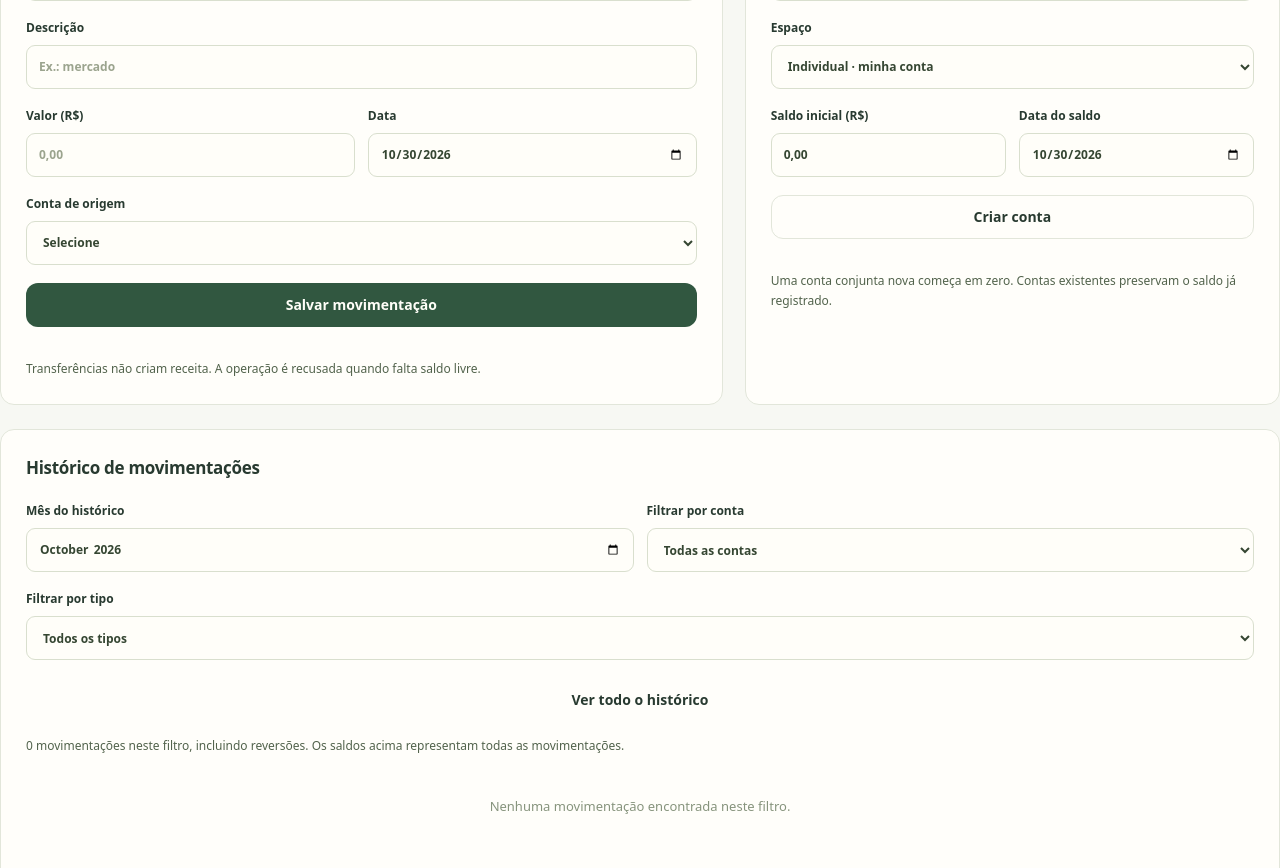
Test: consulta financeira por período › filtra mês e conta, encontra o destino das transferências e preserva reversões
(page scrolled)
Replace the text in the field labelled "Mês do histórico" with "2026-01" at [330, 550], box [26,528,634,572]
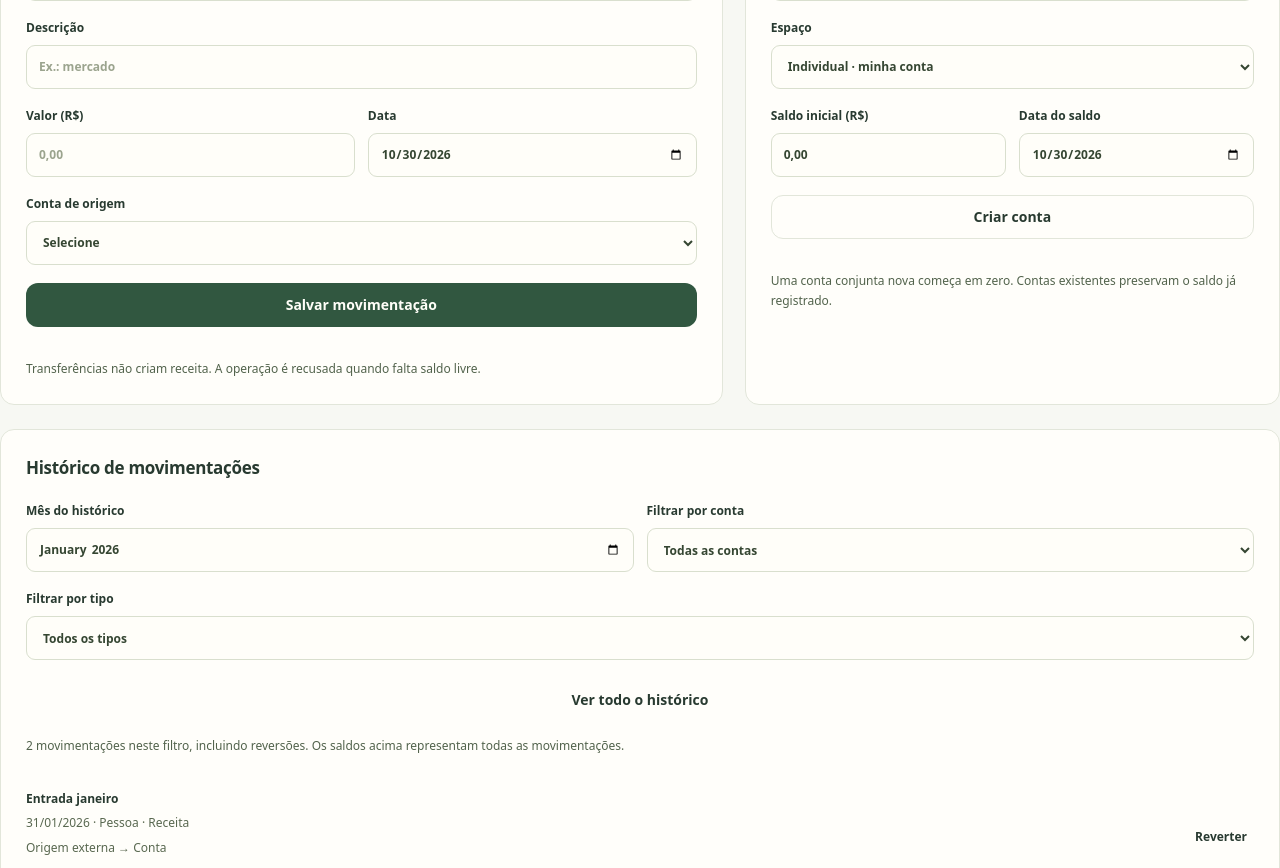
expect the text "Transferência fevereiro" is not shown: met
expect the text "Entrada janeiro" is shown: met, box [26,790,118,807]
Click the button "Ver todo o histórico" at [640, 700], box [26,678,1254,722]
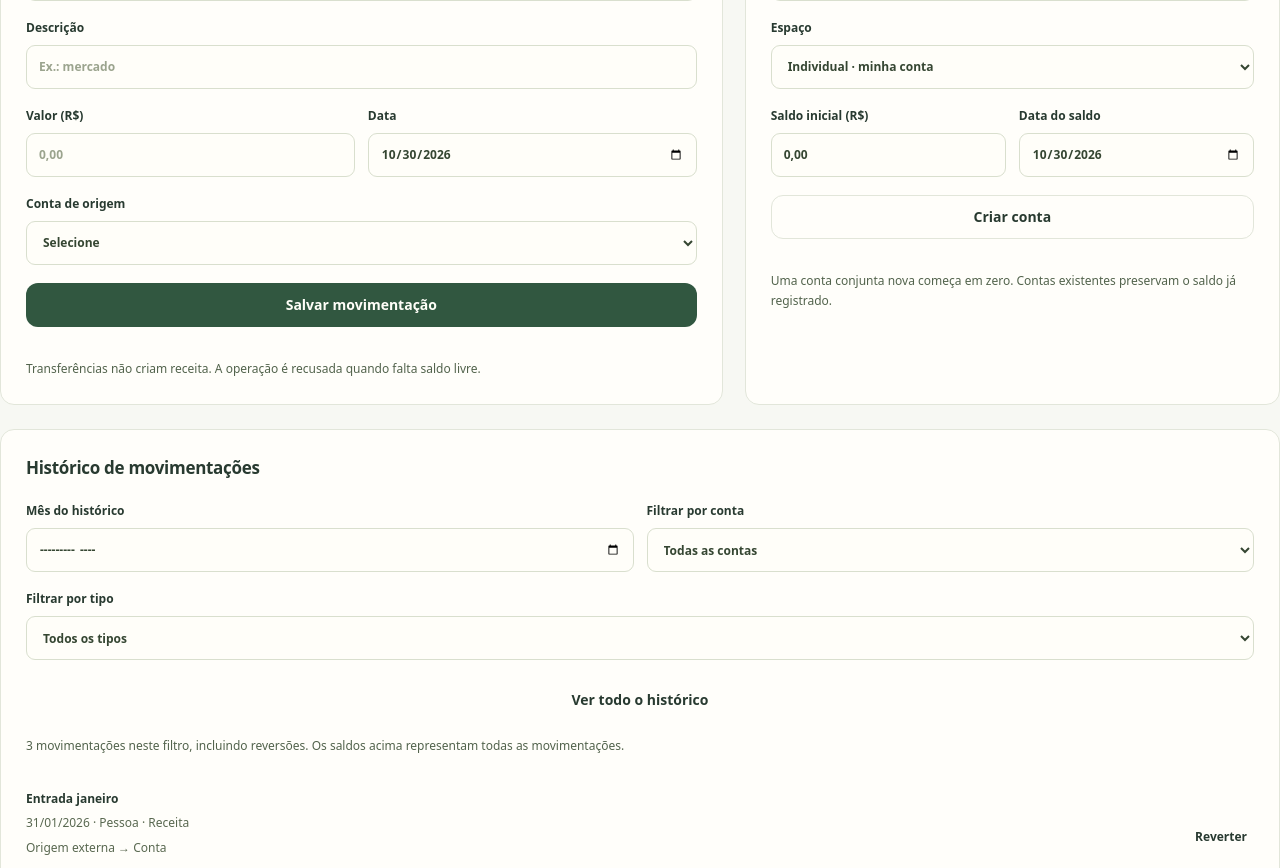
Select "Conjunta" in the dropdown labelled "Filtrar por conta" at [950, 550], box [646,528,1254,572]
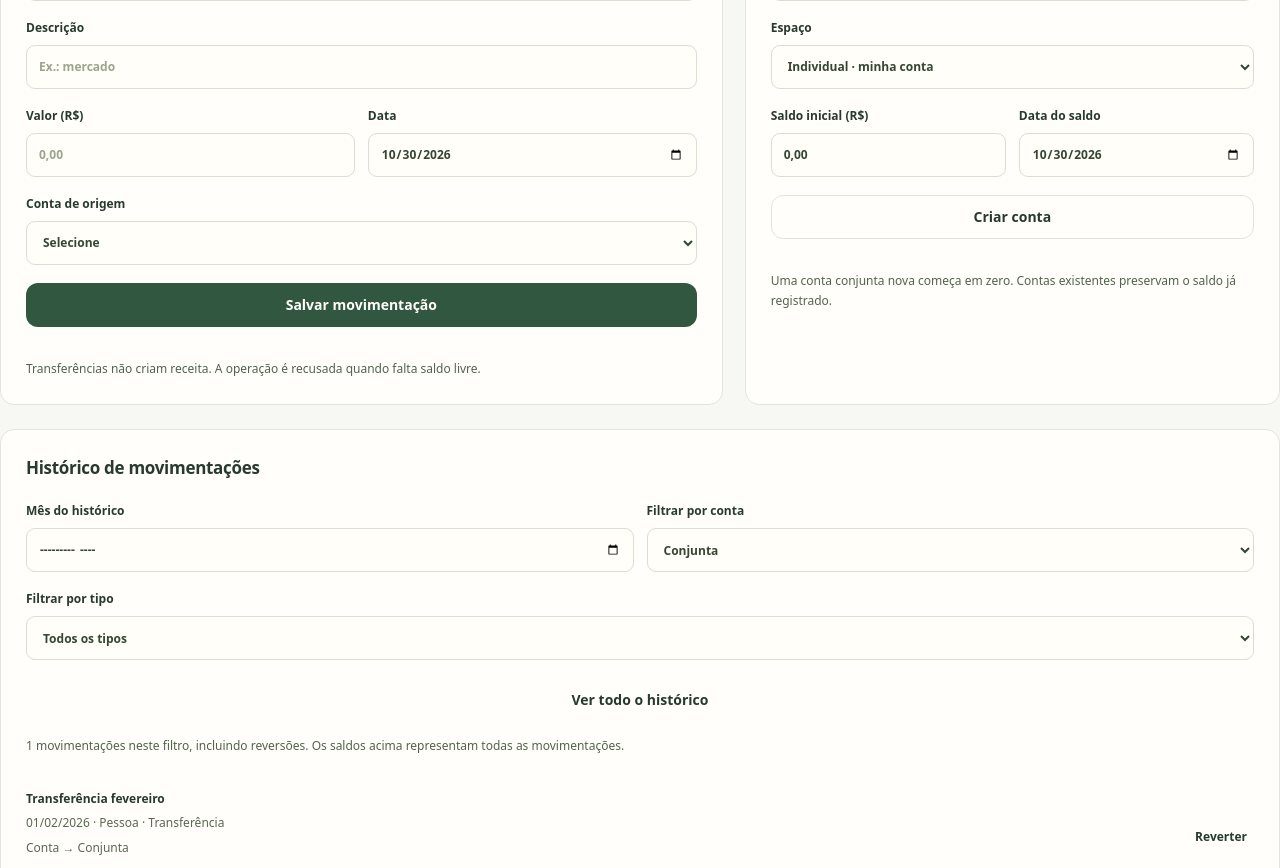
expect the text "Transferência fevereiro" is shown: met, box [26,790,165,807]
expect the text "Entrada janeiro" is gone: met
Select "Despesas" in the dropdown labelled "Filtrar por tipo" at [640, 638], box [26,616,1254,660]
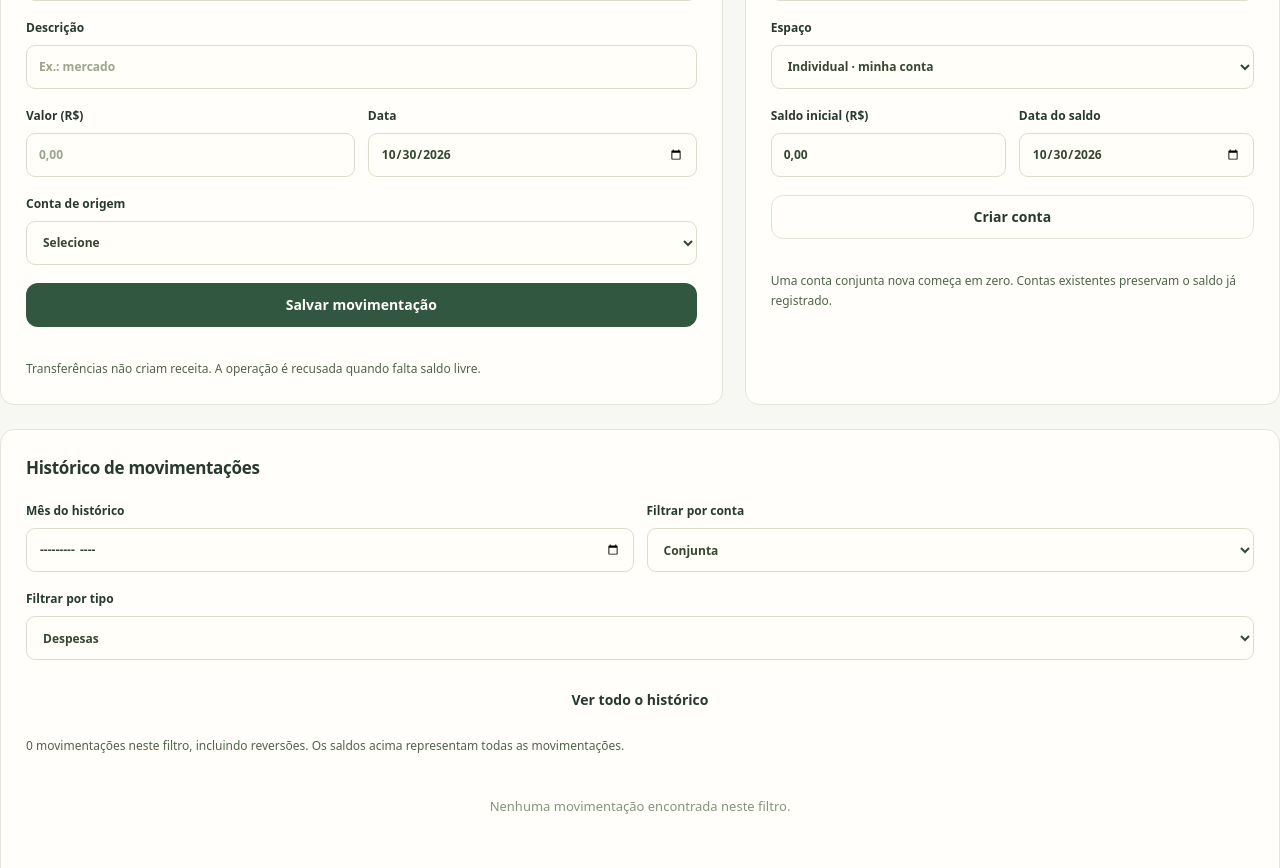
expect the text "Nenhuma movimentação encontrada neste filtro." is shown: met, box [490,797,790,815]
